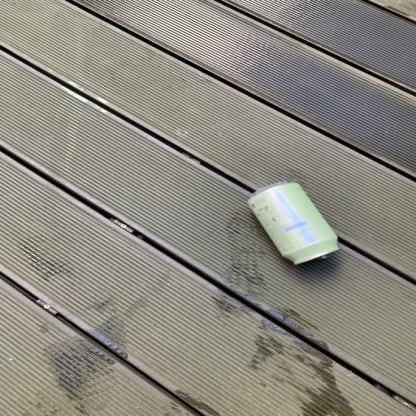trash: (247, 180, 341, 268)
